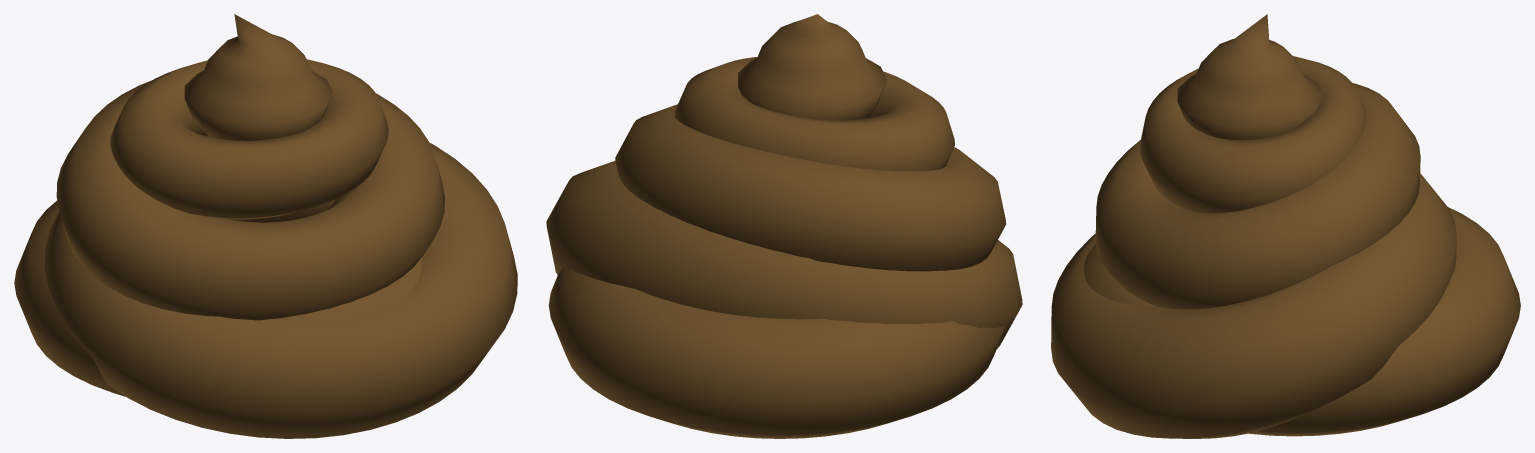
The model's file is Poop.fbx.
3 renders of one model, left to right at view 1: azimuth 30°, elevation 25°; view 2: azimuth 150°, elevation 25°; view 3: azimuth 270°, elevation 25°, orthographic. The views are drawn at different scales.
Visible parts, largest first — view 1: Sphere; view 2: Sphere; view 3: Sphere.
Part boxes in pixels (x1=…): Sphere: x1=14, y1=14, x2=517, y2=438; Sphere: x1=546, y1=14, x2=1022, y2=438; Sphere: x1=1051, y1=14, x2=1520, y2=438.
Size of the model in its own units: 186 by 151 by 179.
